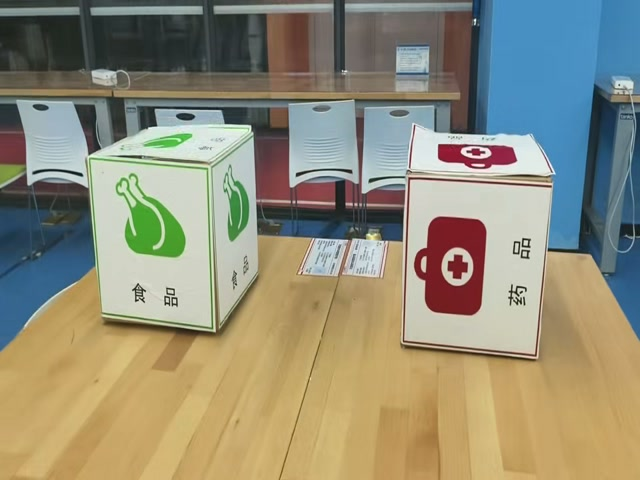Cube_food: (94, 124, 255, 170)
Cube_medicine: (408, 134, 555, 185)
